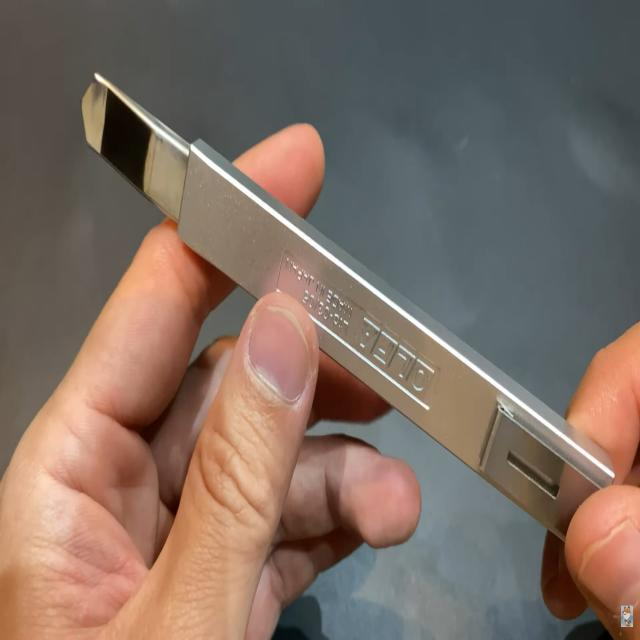cutter: (76, 29, 622, 582)
